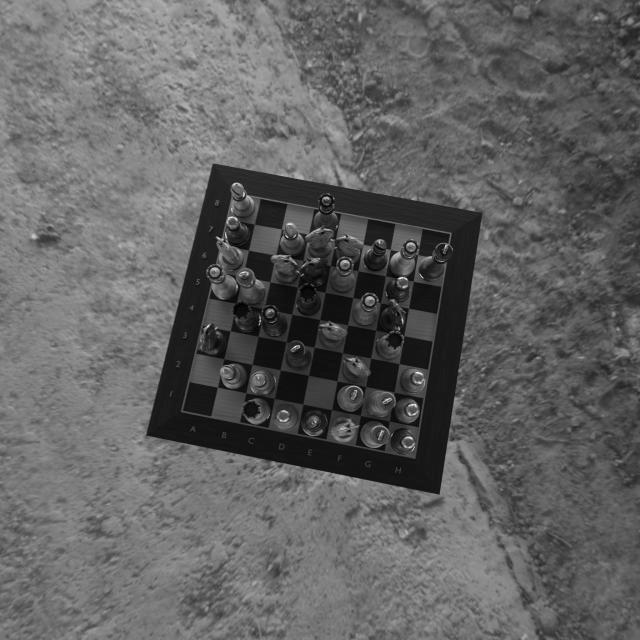chessboard: (182, 194, 451, 458)
